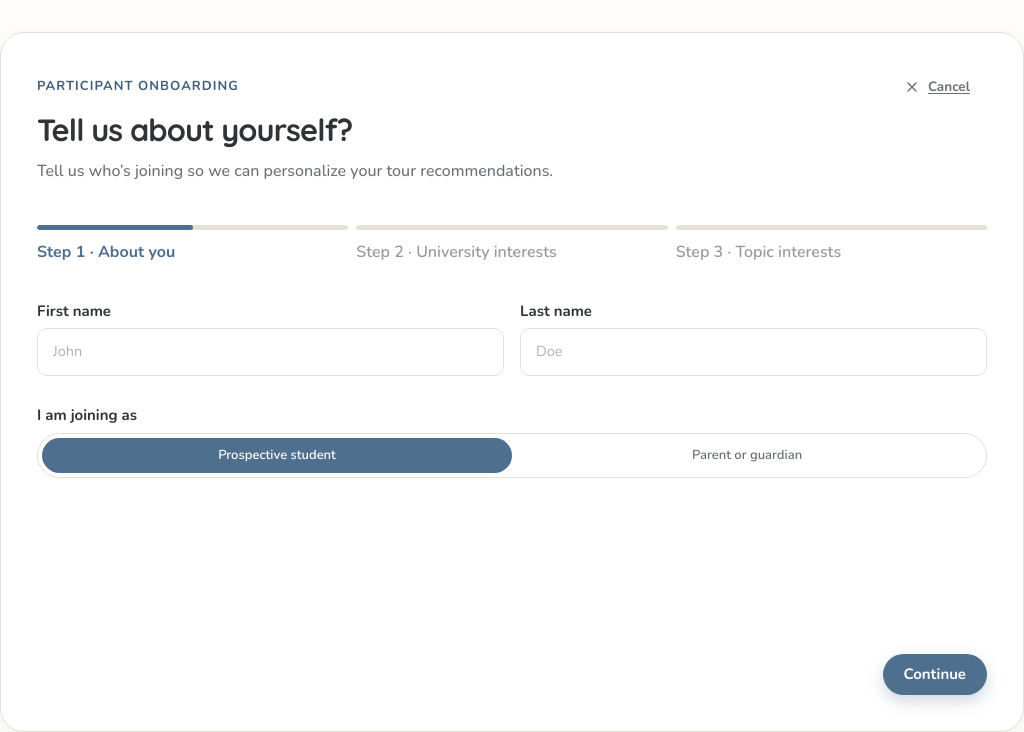
Test: ParticipantOnboardingForm (wizard) › advances to the Universities step once names are filled
In the field labelled "First name": (270, 352) [37,328,504,376], type "Jordan"
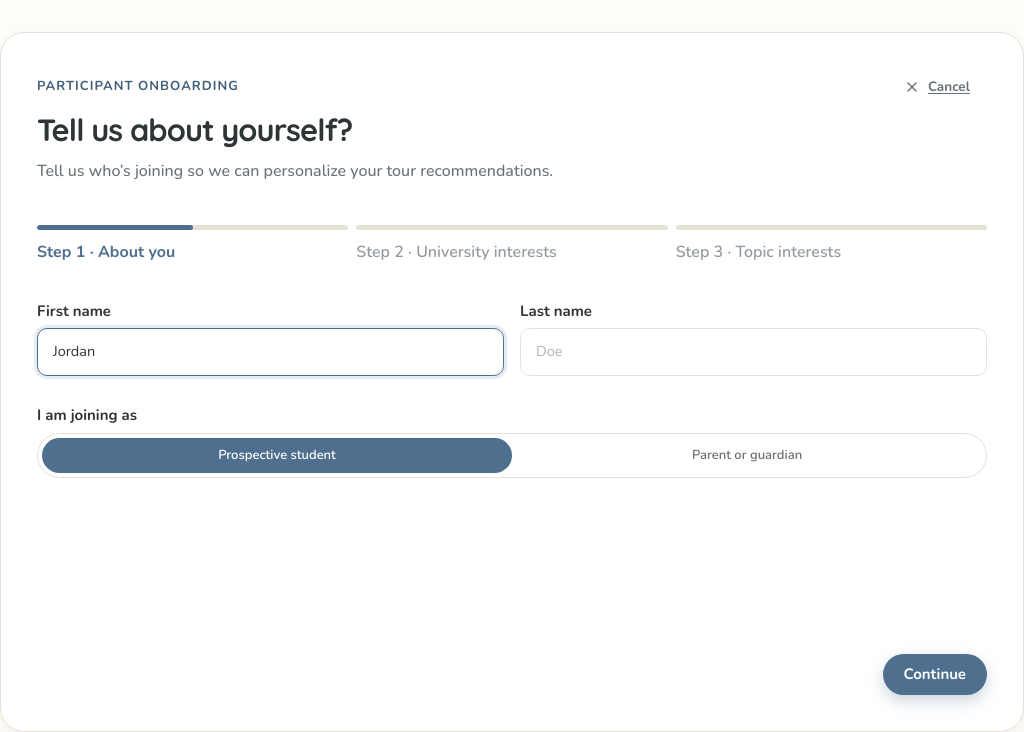
In the field labelled "Last name": (754, 352) [520,328,987,376], type "Lee"
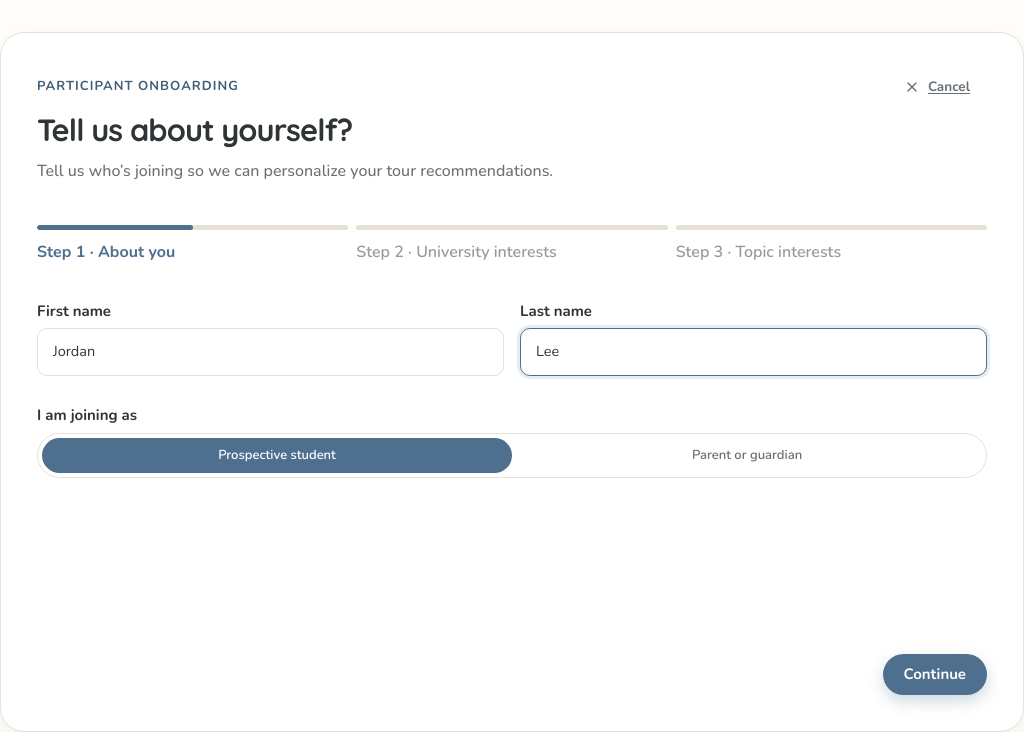
Click the button "Continue": (935, 674) [882,654,987,695]
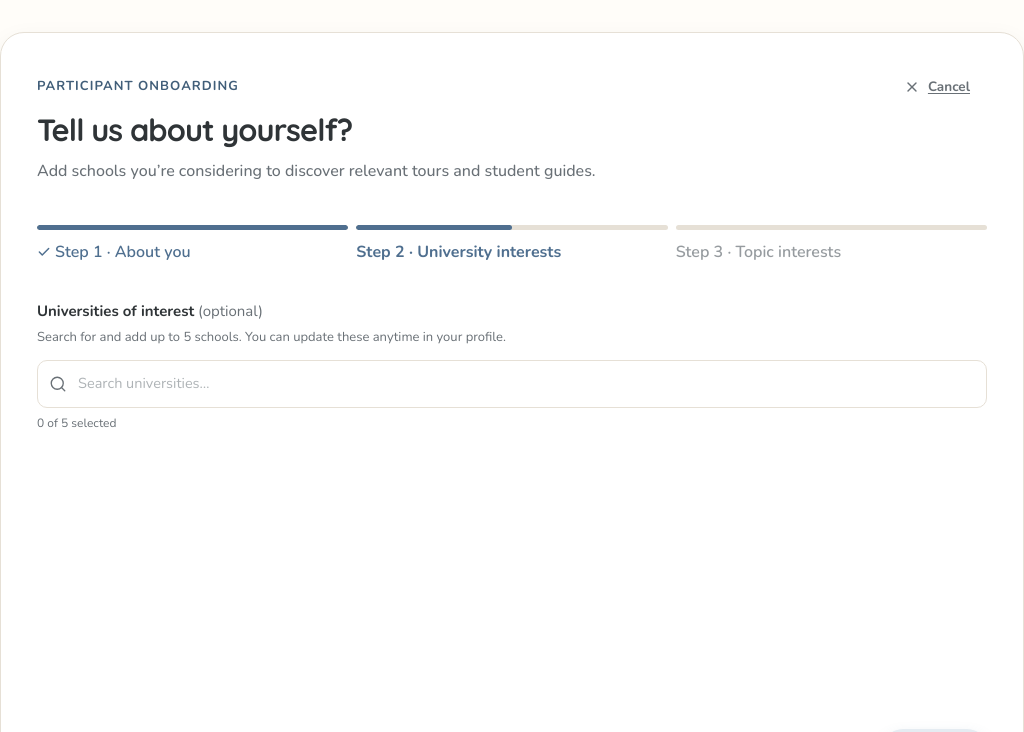
expect the text "Universities of interest (optional)" is shown: met, box [37,301,263,321]
expect the field with placeholder "Search universities…" is shown: met, box [37,360,987,408]
